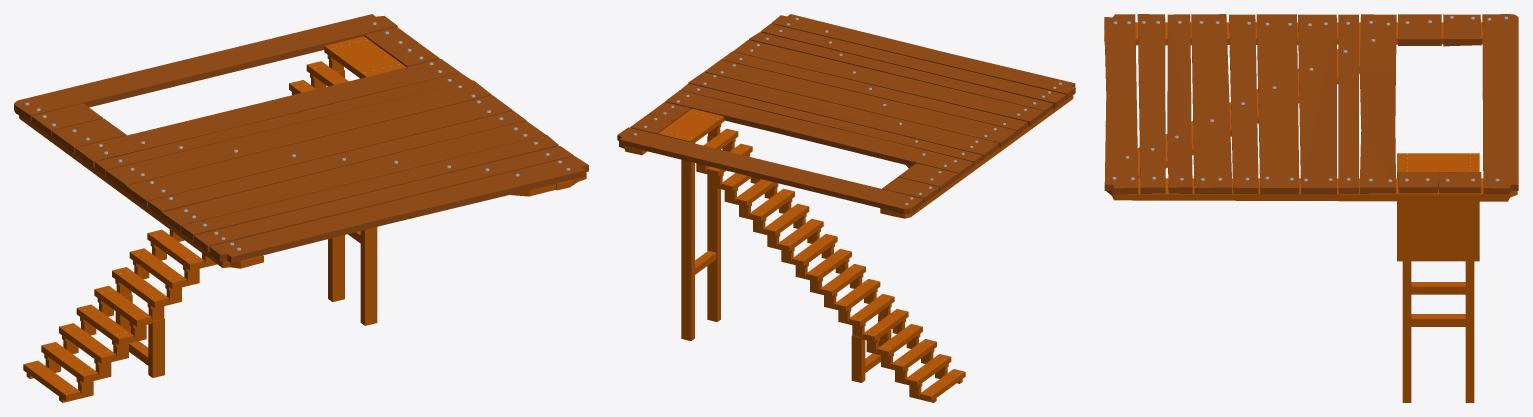
The model's file is WoodenFloorStaired2.fbx.
The picture shows the model from 3 angles, left to right: view 1: azimuth 30°, elevation 25°; view 2: azimuth 150°, elevation 25°; view 3: azimuth 270°, elevation 25°; orthographic projection. The views are drawn at different scales.
Parts seen in each view (by area): view 1: WoodenFloorStaired2_LOD0; view 2: WoodenFloorStaired2_LOD0; view 3: WoodenFloorStaired2_LOD0.
Boxes of the visible parts, left/top/right/bottom form: WoodenFloorStaired2_LOD0: left=14, top=14, right=588, bottom=402; WoodenFloorStaired2_LOD0: left=617, top=14, right=1075, bottom=402; WoodenFloorStaired2_LOD0: left=1104, top=14, right=1518, bottom=402.
Size of what is drawn, in the model's own units: 1885 by 1229 by 1855.
